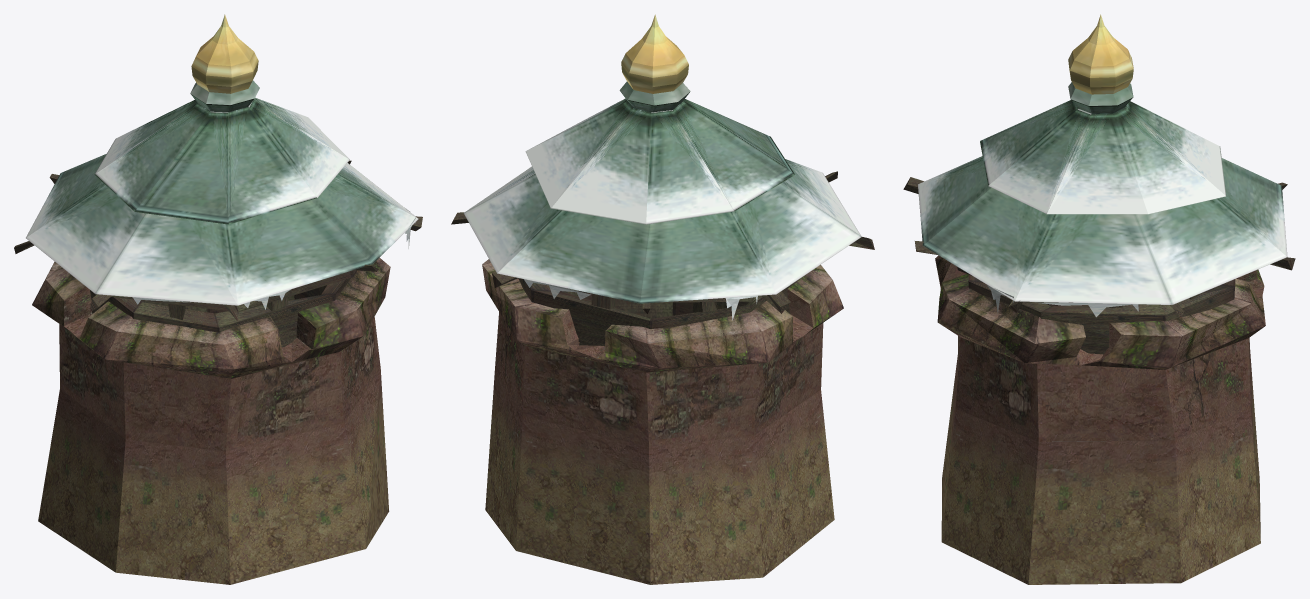
Rendered from C1SMTLSNH.obj.
3 views of the same model, side by side, from view 1: azimuth 30°, elevation 25°; view 2: azimuth 150°, elevation 25°; view 3: azimuth 270°, elevation 25° (orthographic).
Parts seen in each view (by area): view 1: Node 0; view 2: Node 0; view 3: Node 0.
Boxes of the visible parts, bbox=[...] form: Node 0: bbox=[14, 14, 422, 584]; Node 0: bbox=[451, 14, 874, 584]; Node 0: bbox=[903, 14, 1295, 584].
Bounding box in the file's own units: 14.36 × 20.15 × 14.11.
Materials: 4 (4 with a texture image).
